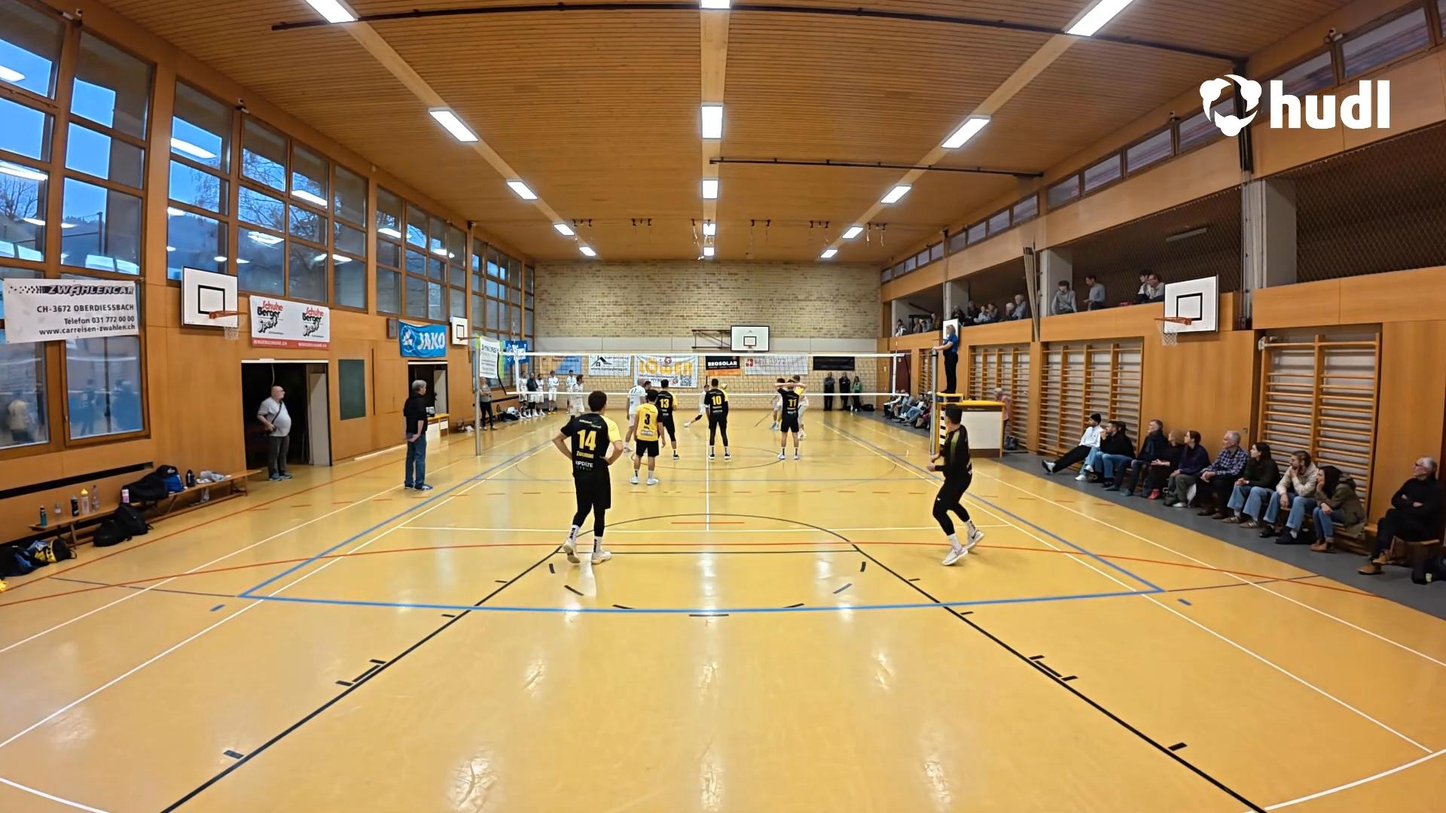ricezione: (686, 373, 726, 430)
